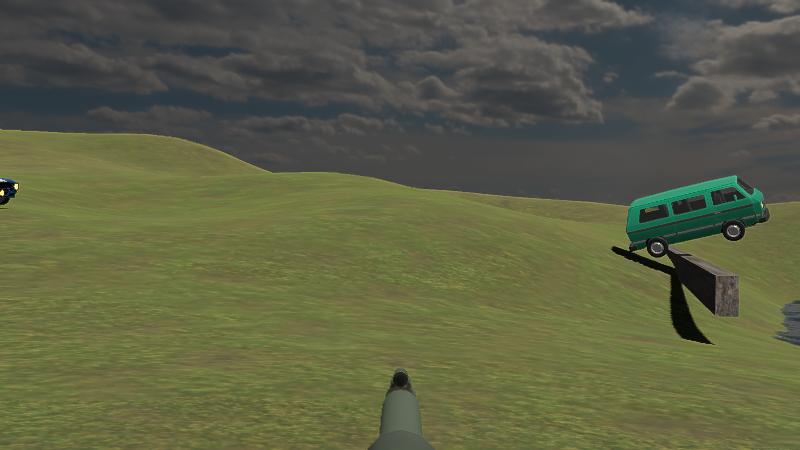car: (626, 176, 770, 259), (0, 162, 19, 211)
